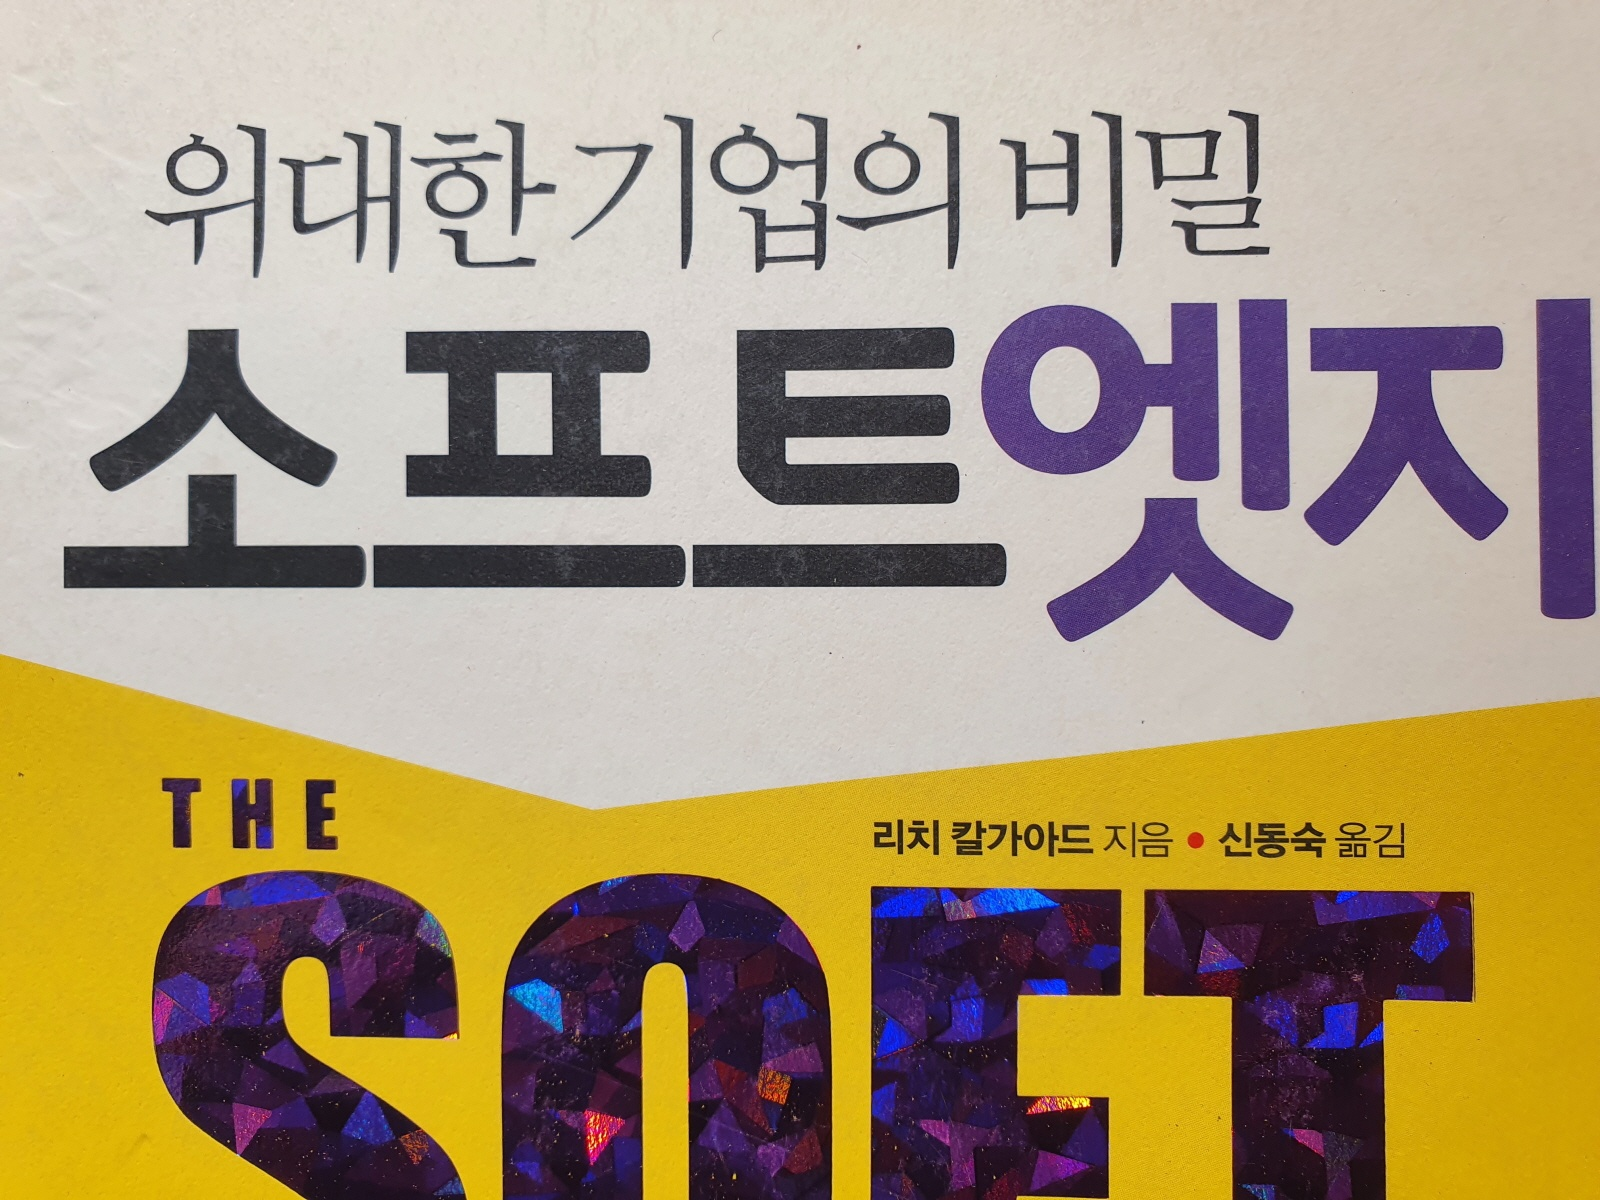text: (55, 292, 1600, 706), (116, 92, 1300, 291), (850, 794, 1191, 874), (1211, 797, 1435, 877)
